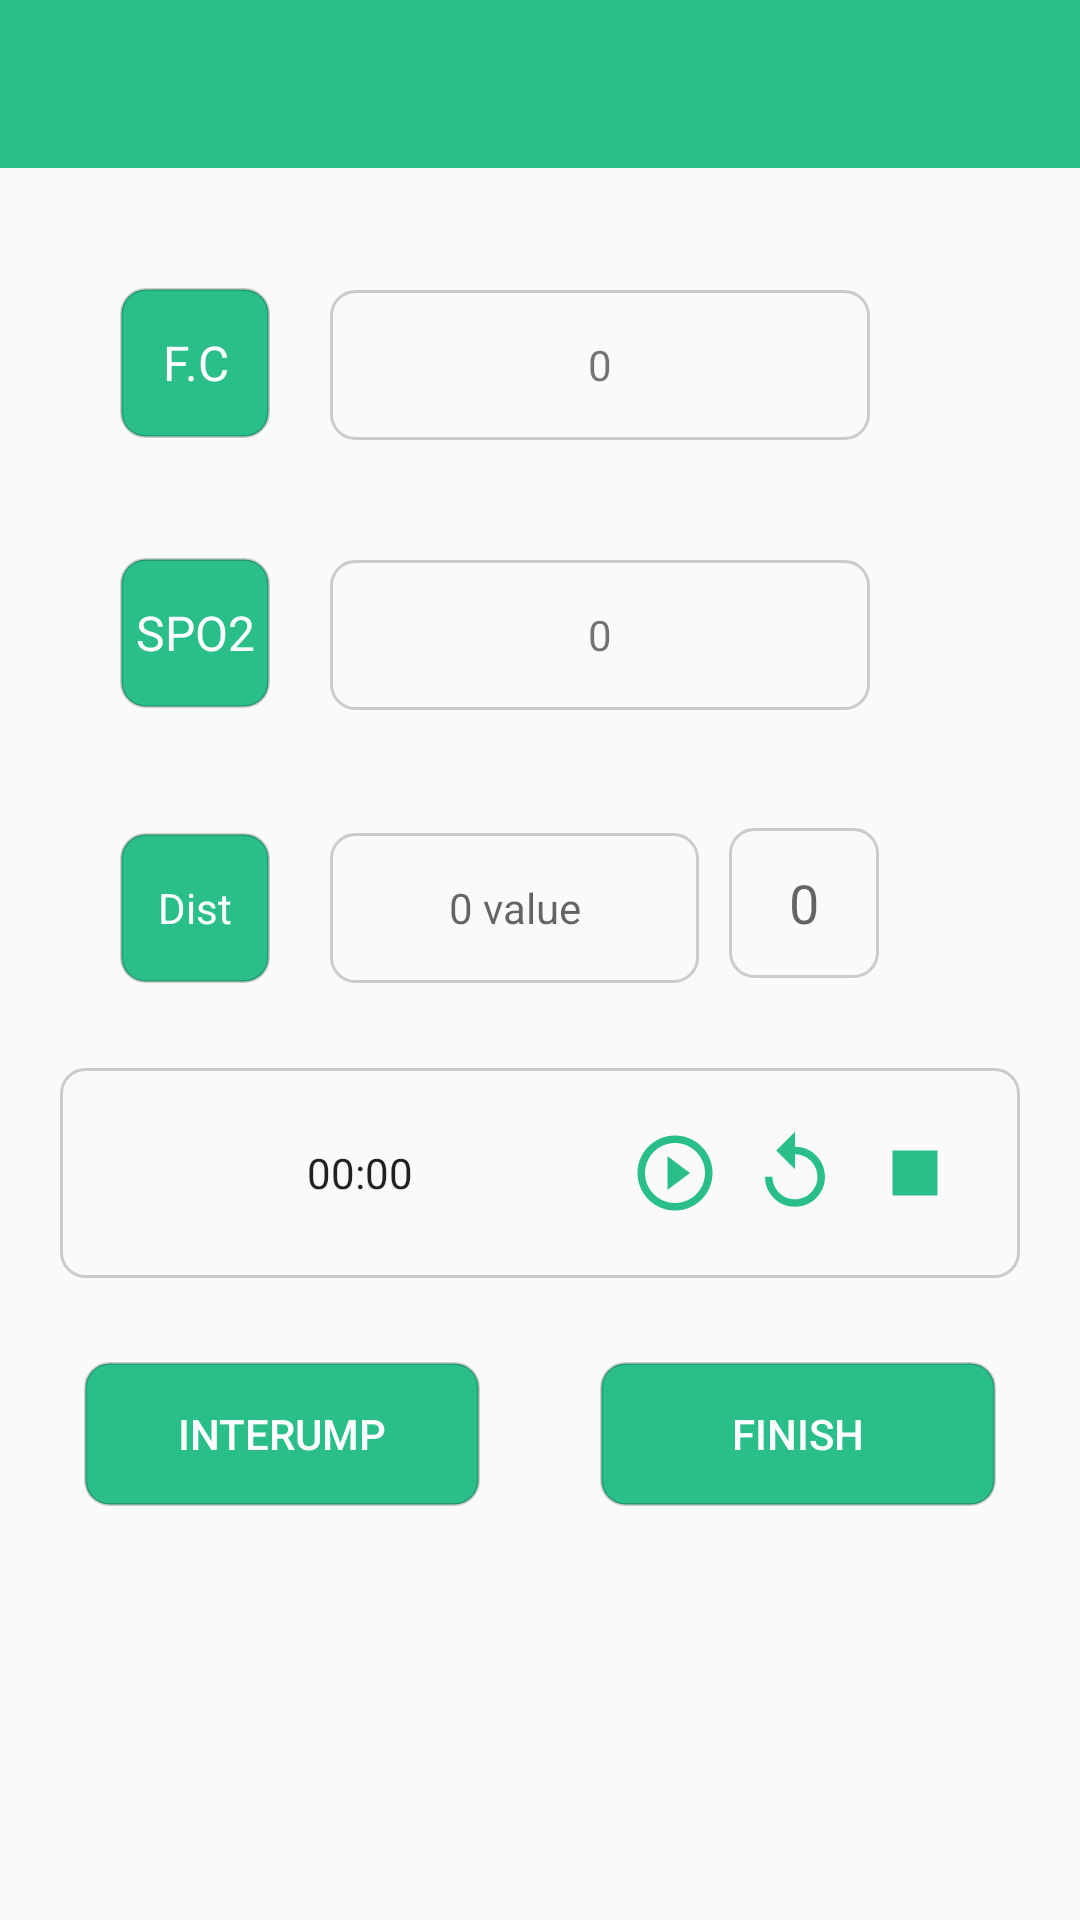

Icon click points for this 1080 x 1920 phone screenshot, format (x=x, y=y):
play circle: (x=675, y=1173)
replay: (x=795, y=1169)
stop: (x=915, y=1173)
